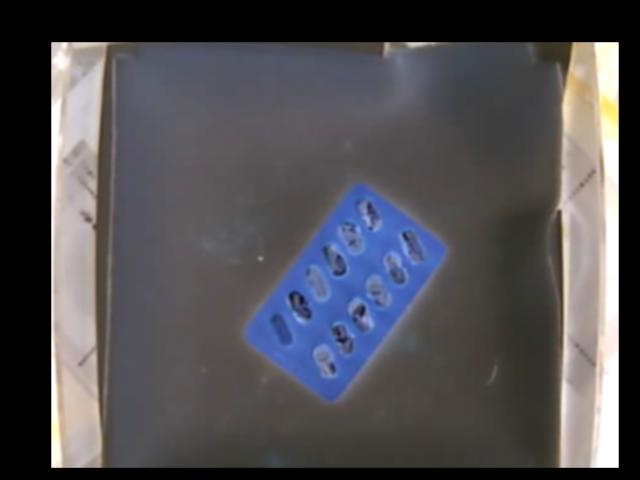Medicine: (241, 181, 443, 402)
